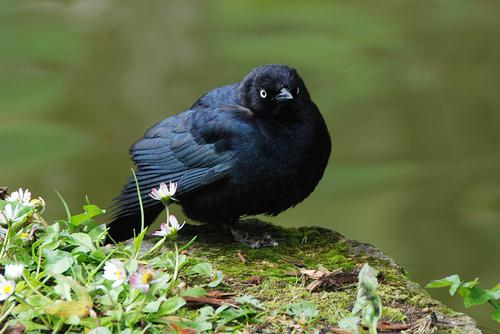009.Brewer_Blackbird: (105, 63, 334, 252)
